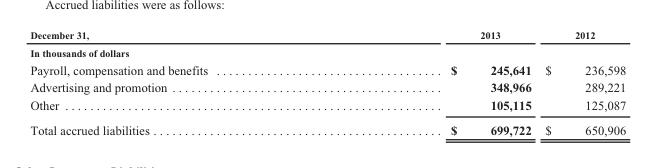table: (29, 29, 625, 137)
table column: (29, 29, 328, 137), (328, 29, 537, 137), (537, 29, 625, 137)
table column header: (29, 29, 625, 43)
table projected row header: (29, 43, 625, 60)
table row: (29, 96, 625, 117), (29, 117, 625, 137), (29, 60, 625, 78), (29, 78, 625, 96), (29, 43, 625, 60), (29, 29, 625, 43)
